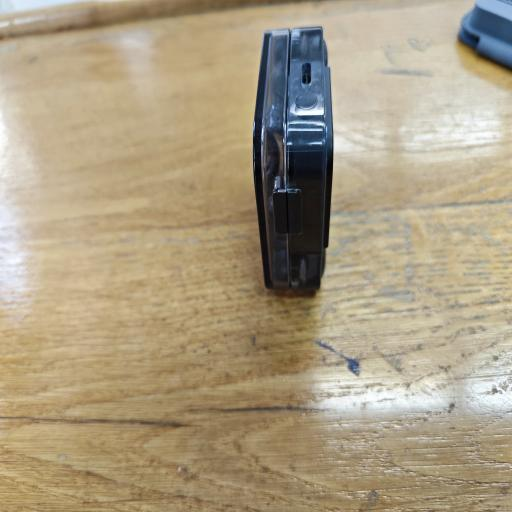Headphones: (246, 18, 339, 296)
